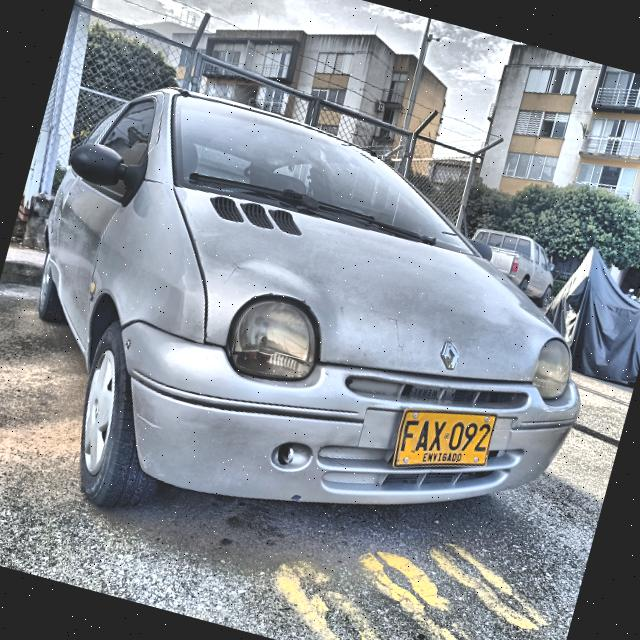plate: (394, 410, 496, 466)
